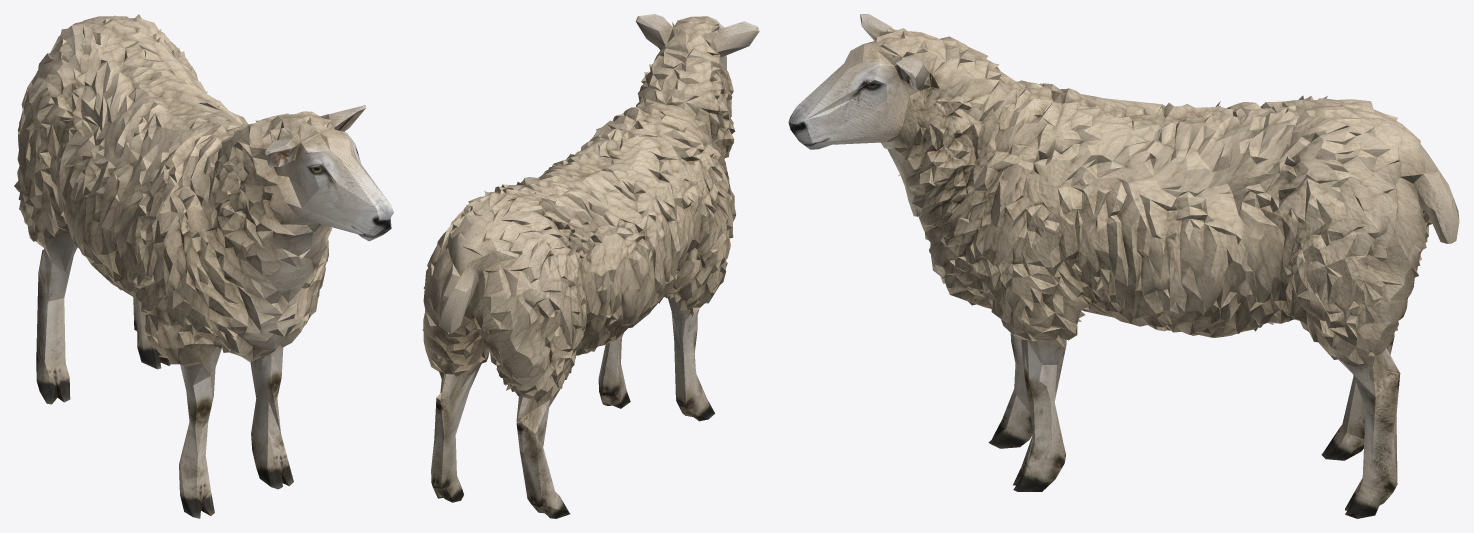
The model's file is sheep.glb.
The picture shows the model from 3 angles, left to right: view 1: azimuth 30°, elevation 25°; view 2: azimuth 150°, elevation 25°; view 3: azimuth 270°, elevation 25°; orthographic projection. The views are drawn at different scales.
Visible parts, largest first — view 1: output_unwrapped; view 2: output_unwrapped; view 3: output_unwrapped.
Part boxes in pixels (<box>): output_unwrapped: <box>14,14,393,518</box>; output_unwrapped: <box>422,14,759,518</box>; output_unwrapped: <box>788,14,1459,518</box>.
Size of the model in its own units: 0.6915 by 1.38 by 1.9.
Materials: 1 (1 with a texture image).
